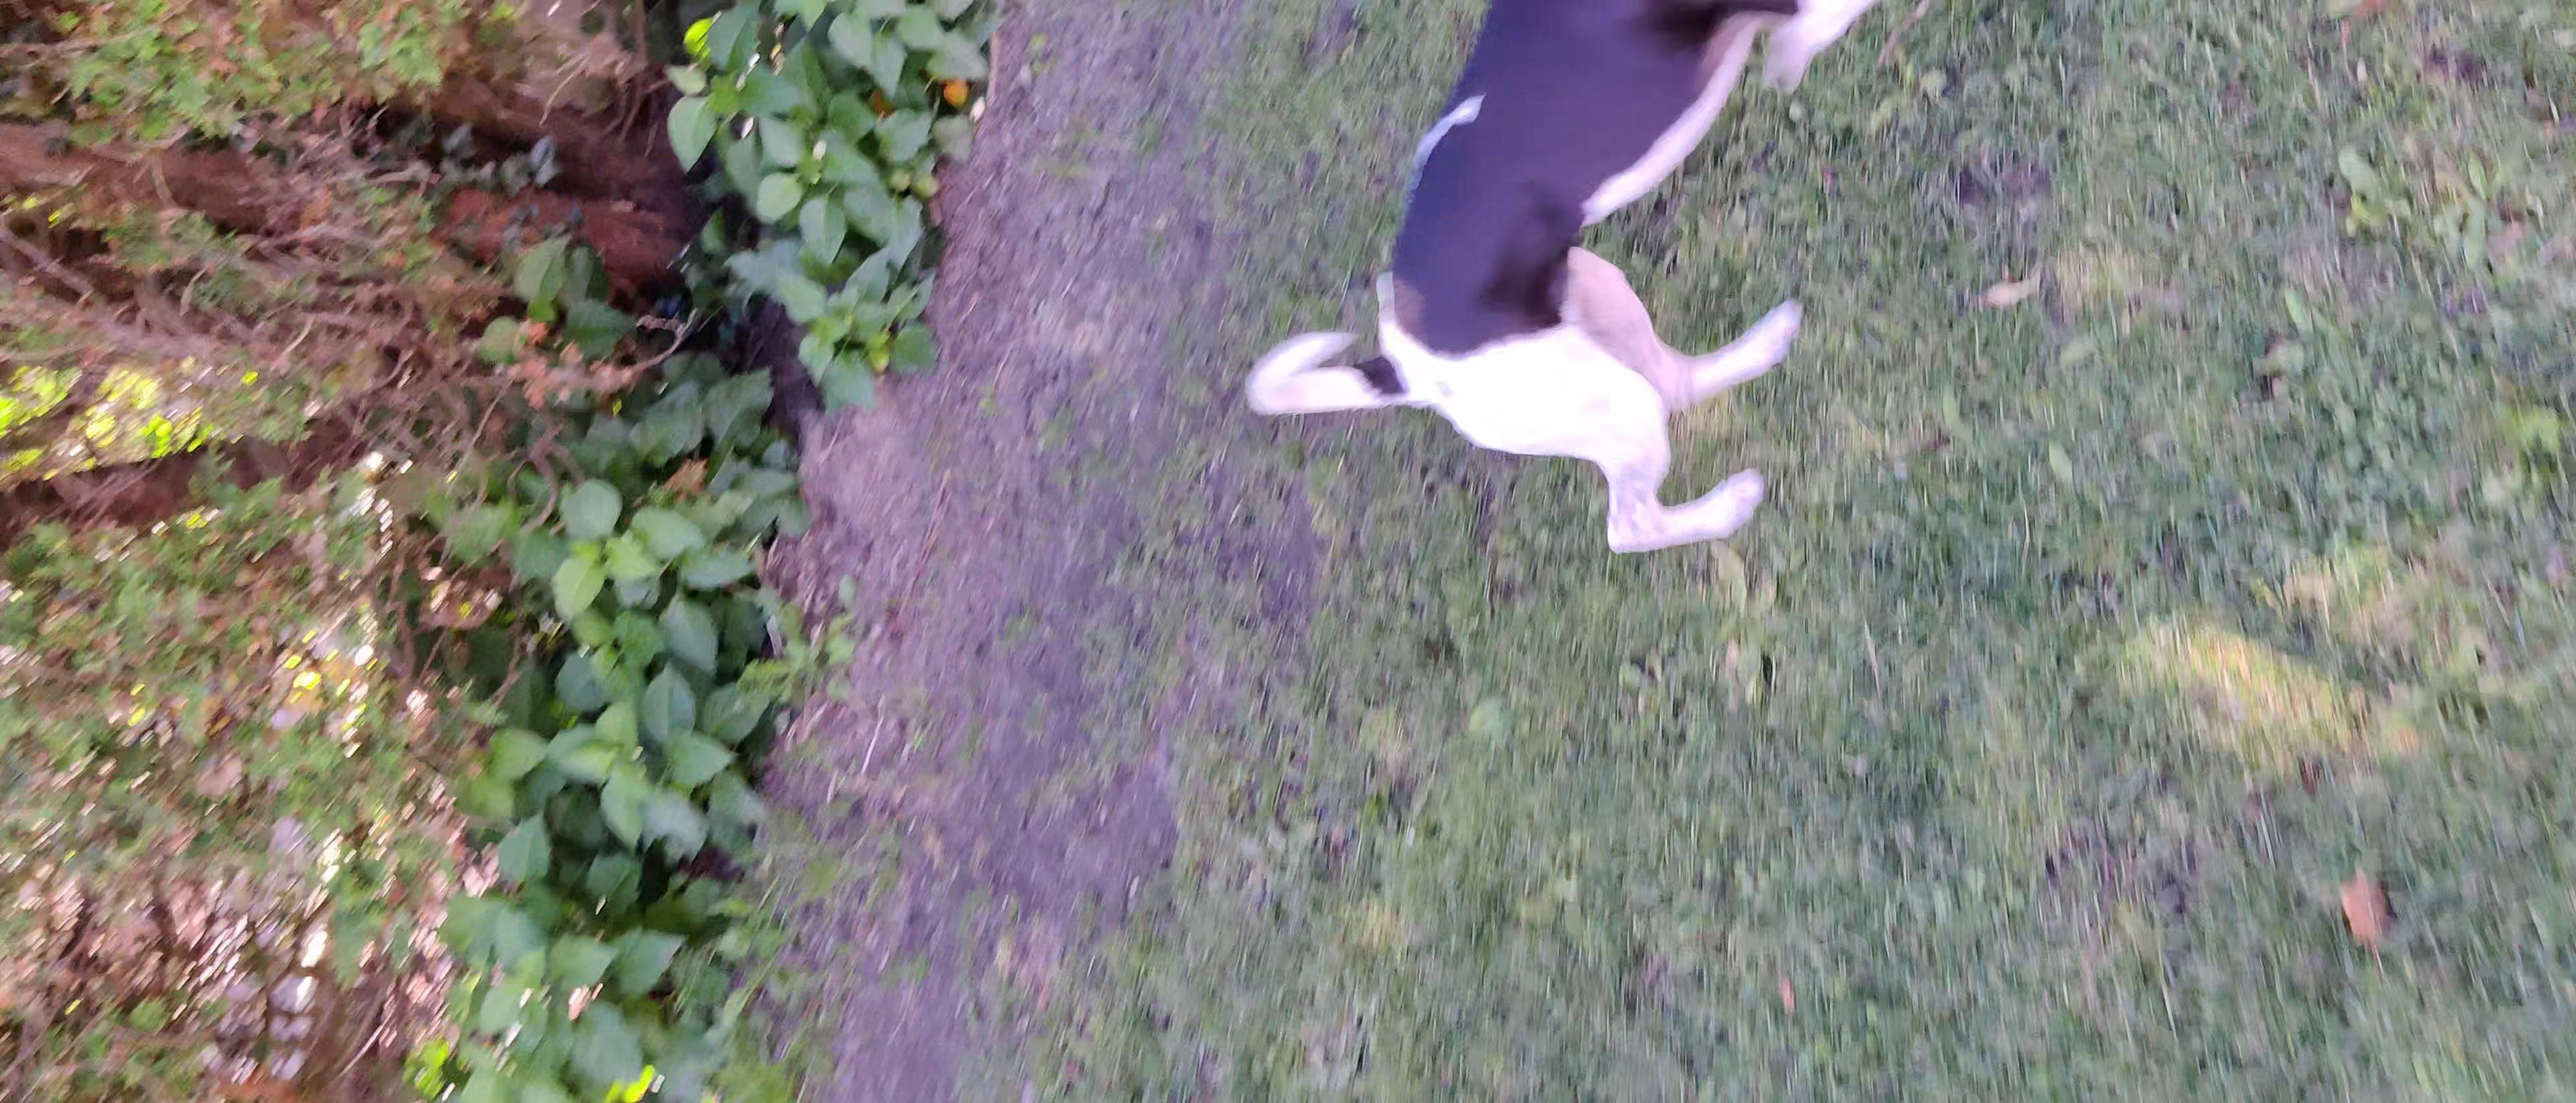Dog: (1239, 0, 1874, 572)
